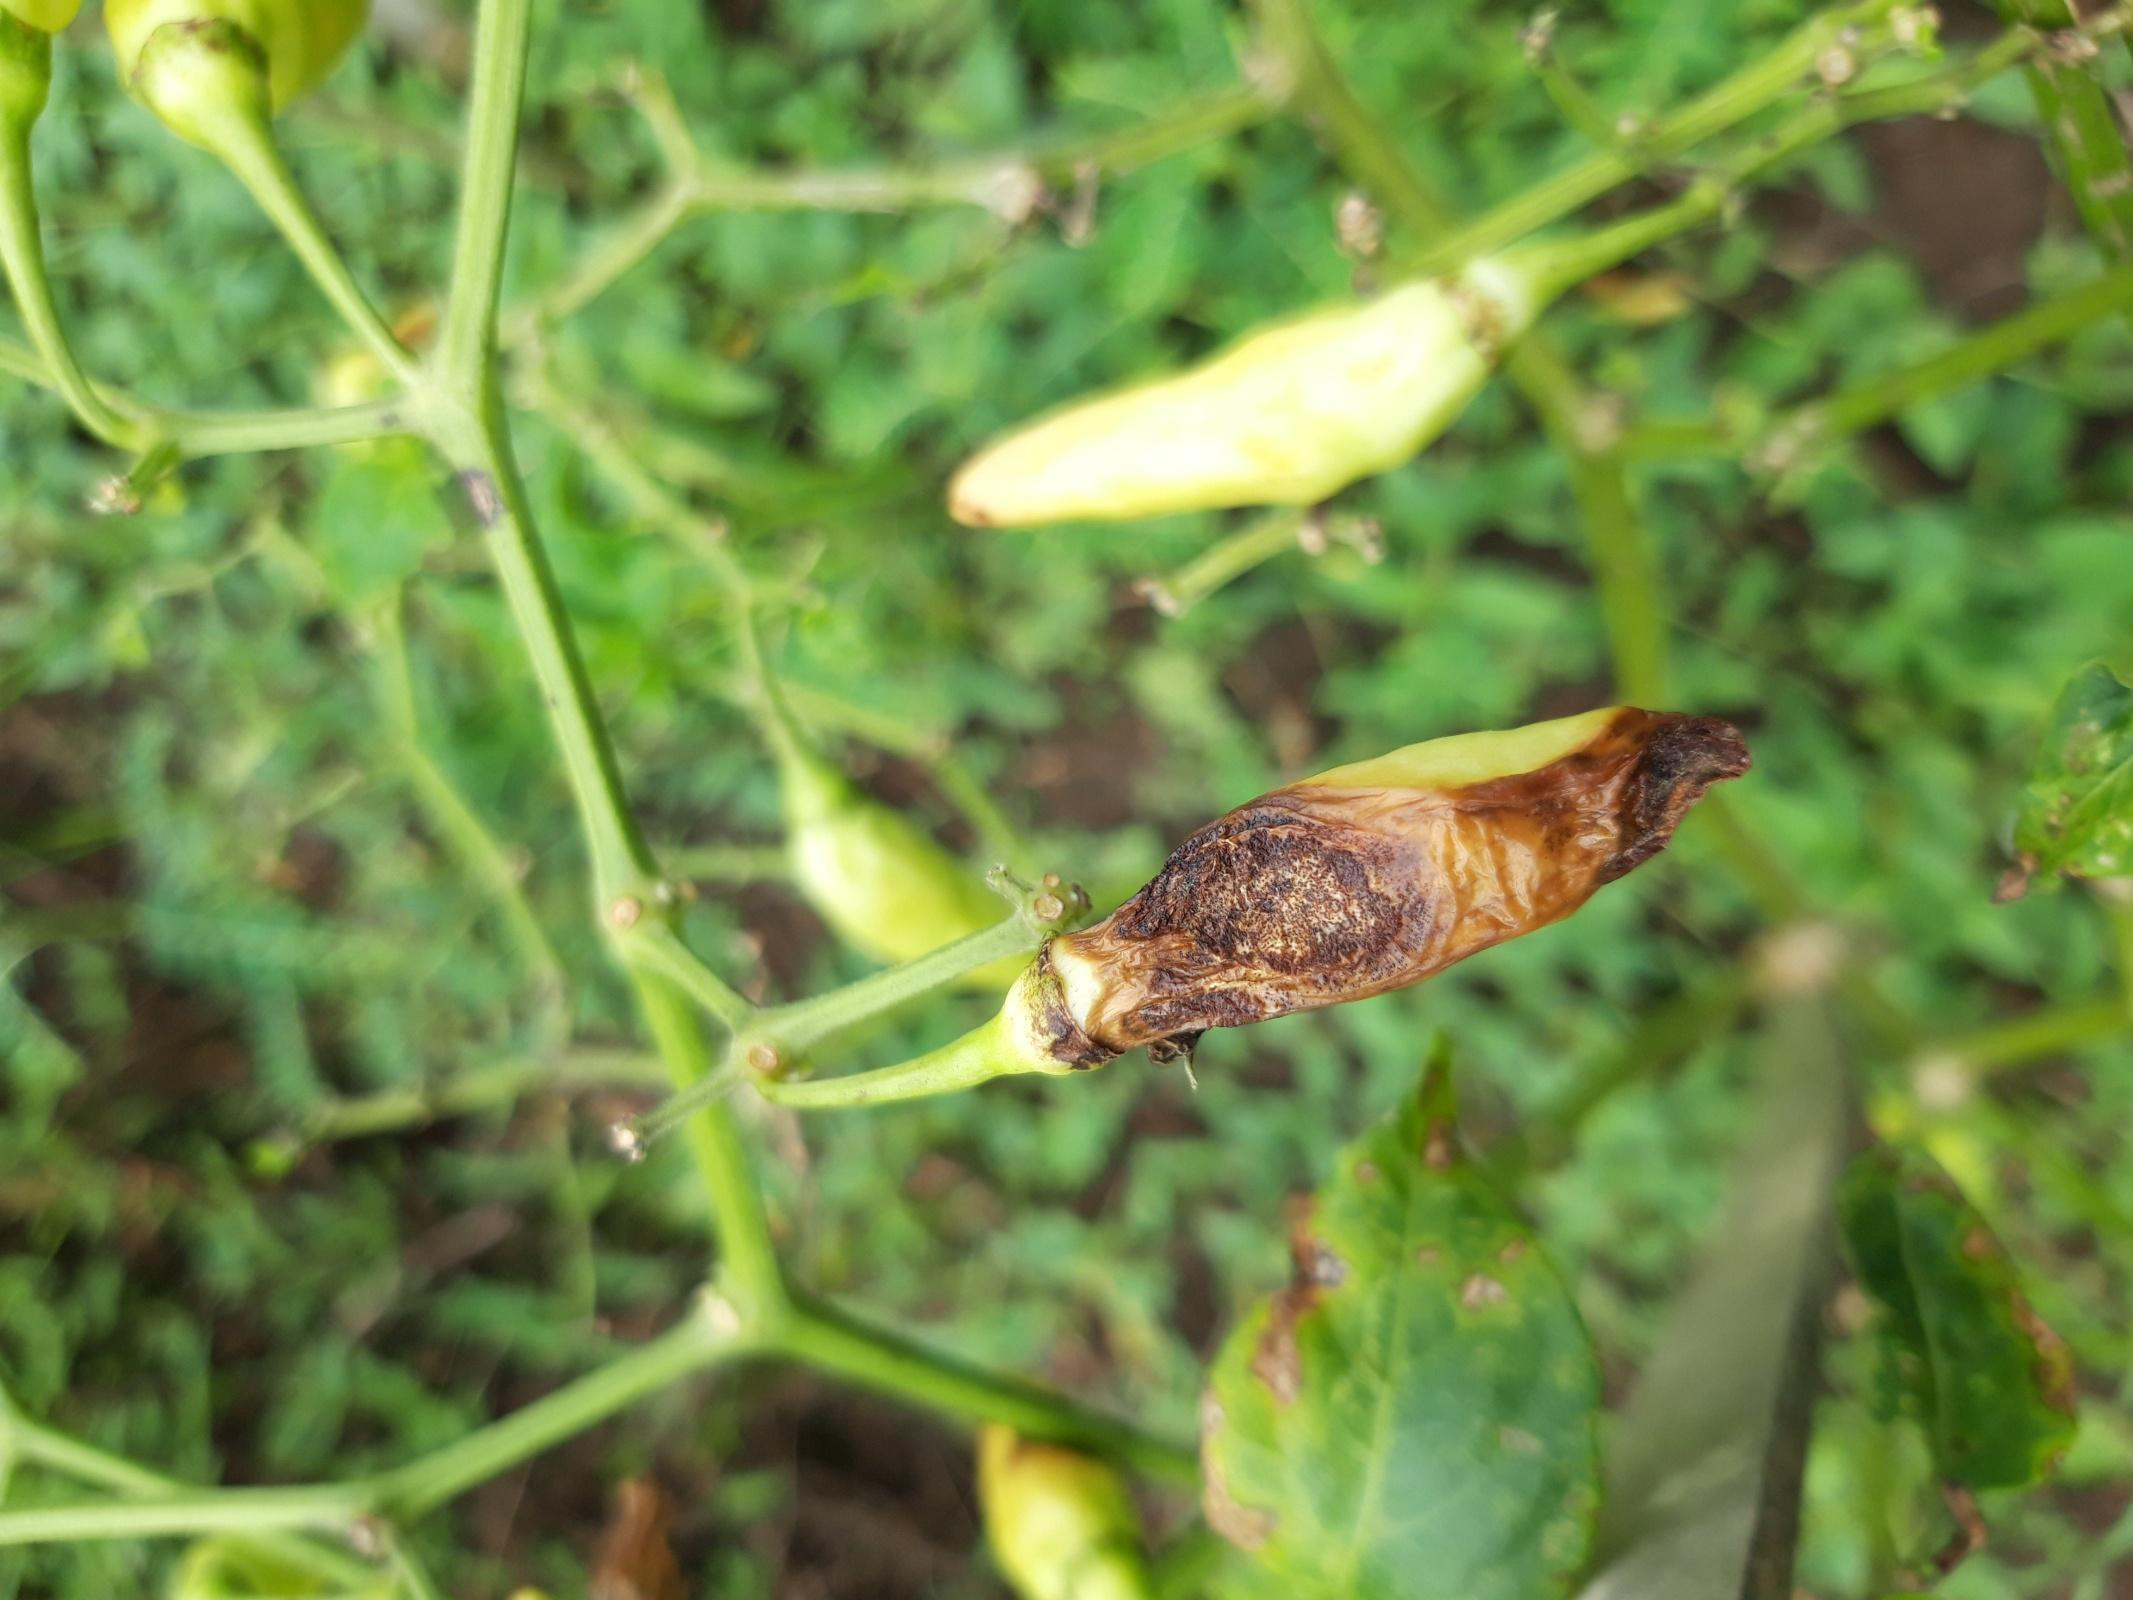antraknosa: (1049, 706, 1763, 1072)
cabai_normal: (945, 277, 1508, 529)
